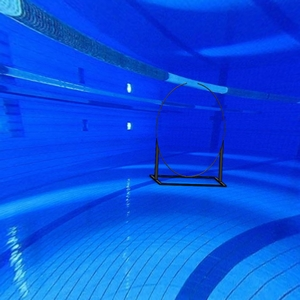circle: (149, 81, 228, 192)
